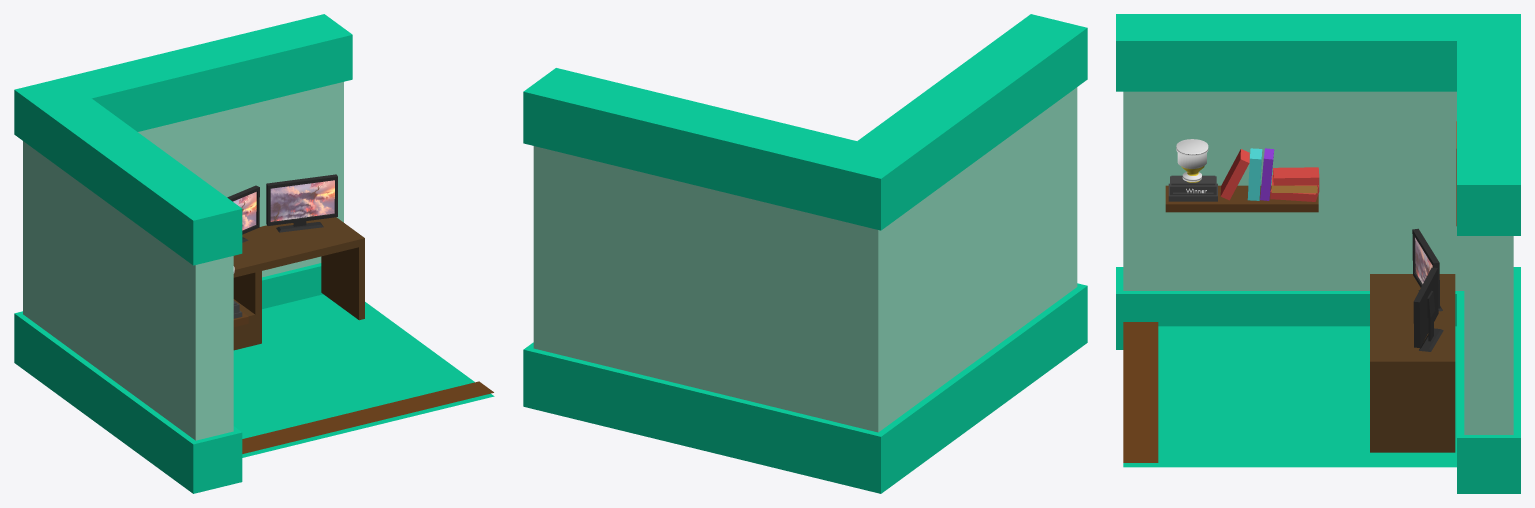
Rendered from room.glb.
The picture shows the model from 3 angles, left to right: view 1: azimuth 30°, elevation 25°; view 2: azimuth 150°, elevation 25°; view 3: azimuth 270°, elevation 25°; orthographic projection. The views are drawn at different scales.
Parts seen in each view (by area): view 1: Pared, Piso, Escritorio, Madera, Monitor, Monitor.001; view 2: Pared; view 3: Pared, Piso, Escritorio, Madera, Libros, Repisa, Monitor, Soporte trofeo, Monitor.001, Repisa.003, Soporte.
Part boxes in pixels (left/top/right/bottom): Pared: left=14, top=14, right=352, bottom=493; Piso: left=233, top=294, right=494, bottom=457; Escritorio: left=233, top=217, right=364, bottom=350; Madera: left=242, top=381, right=493, bottom=453; Monitor: left=266, top=174, right=337, bottom=225; Monitor.001: left=227, top=185, right=259, bottom=234; Pared: left=523, top=14, right=1087, bottom=493; Pared: left=1116, top=14, right=1520, bottom=493; Piso: left=1123, top=326, right=1456, bottom=467; Escritorio: left=1370, top=274, right=1455, bottom=452; Madera: left=1123, top=322, right=1158, bottom=462; Libros: left=1220, top=148, right=1319, bottom=201; Repisa: left=1165, top=185, right=1318, bottom=212; Monitor: left=1413, top=267, right=1438, bottom=347; Soporte trofeo: left=1168, top=175, right=1217, bottom=201; Monitor.001: left=1412, top=228, right=1440, bottom=308; Repisa.003: left=1176, top=139, right=1208, bottom=181; Soporte: left=1419, top=291, right=1443, bottom=351.
Size of what is drawn, in the model's own units: 2.38 by 2 by 2.38.
Materials: 20 (2 with a texture image).
